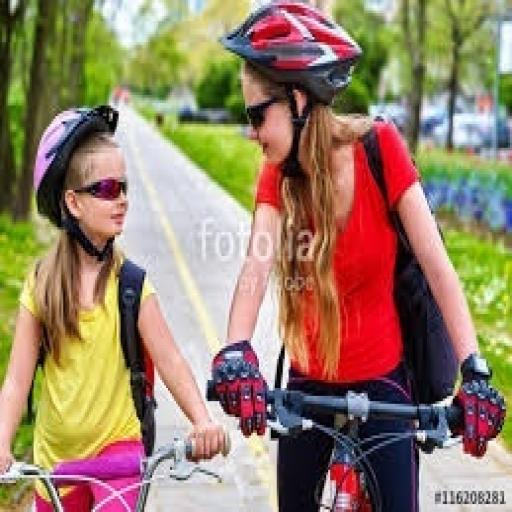cycling: (205, 0, 508, 509), (0, 100, 231, 509)
